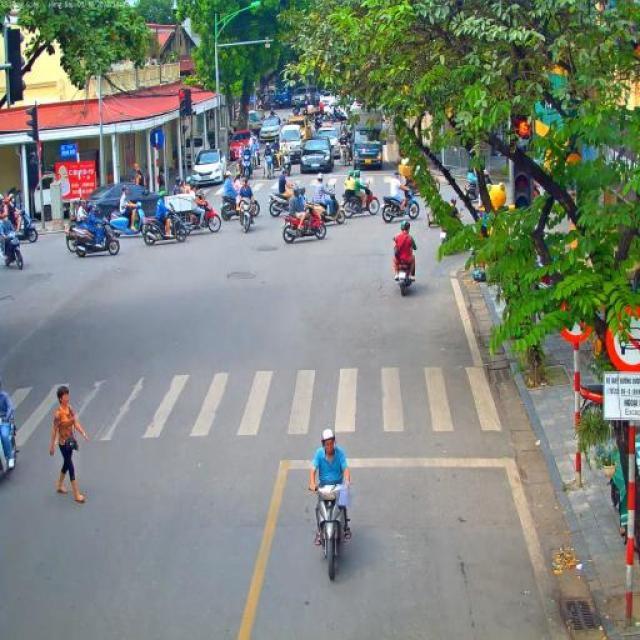car: (86, 181, 162, 224), (190, 149, 228, 190), (300, 136, 334, 174), (313, 126, 341, 160), (278, 123, 302, 162), (286, 115, 312, 149), (229, 130, 256, 160), (259, 117, 282, 144), (246, 111, 263, 137), (319, 95, 336, 113)
motorcycle: (308, 480, 351, 580), (67, 220, 121, 258), (279, 202, 327, 243), (140, 207, 190, 246), (104, 202, 147, 240), (381, 184, 420, 223), (339, 182, 380, 218), (0, 414, 18, 480), (183, 202, 222, 232), (310, 192, 346, 224), (0, 230, 24, 270), (14, 211, 38, 243), (236, 196, 256, 234), (396, 256, 414, 296), (268, 191, 292, 217), (220, 193, 241, 221), (236, 153, 253, 182), (464, 179, 480, 207), (278, 150, 292, 178), (261, 153, 275, 179), (338, 140, 352, 165), (233, 150, 244, 174), (250, 146, 261, 169), (272, 150, 282, 172), (338, 114, 347, 138), (311, 113, 319, 131), (438, 230, 448, 240), (319, 115, 326, 129), (314, 97, 320, 111), (306, 96, 312, 108)
truck: (346, 111, 386, 170), (268, 75, 294, 107), (292, 85, 310, 107)
